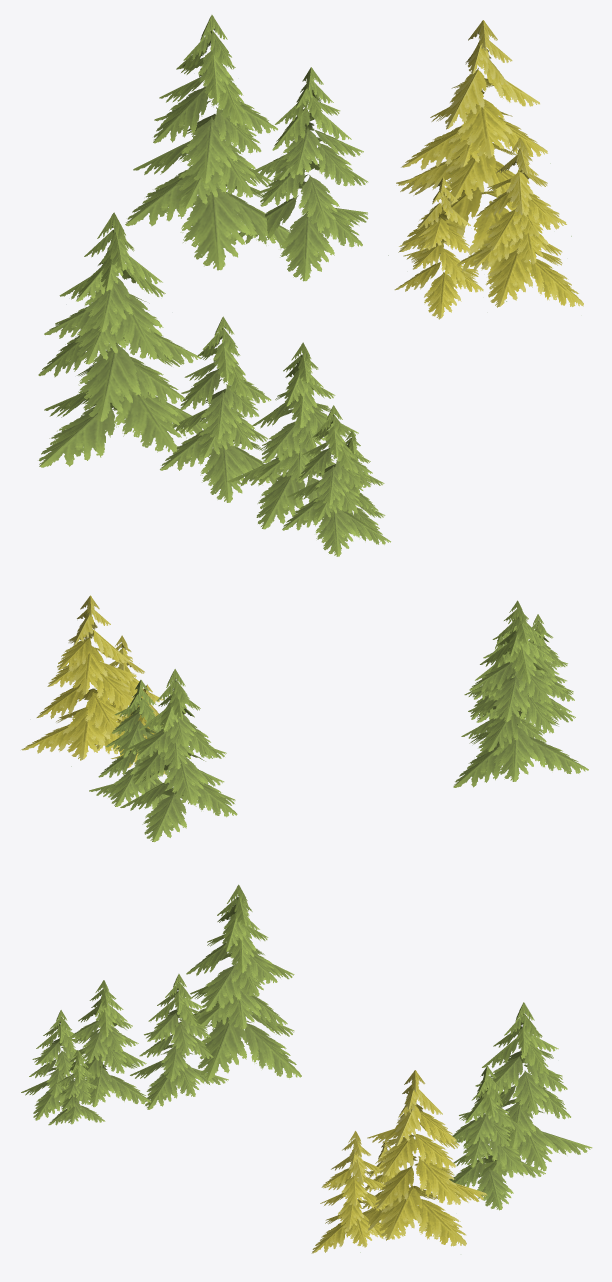
Rendered from area_13_11.FBX.
3 renders of one model, top to bottom at view 1: azimuth 30°, elevation 25°; view 2: azimuth 150°, elevation 25°; view 3: azimuth 270°, elevation 25°, orthographic. The views are drawn at different scales.
Parts seen in each view (by area): view 1: area_13_11; view 2: area_13_11; view 3: area_13_11.
Part boxes in pixels (x1,y1,x2,y2): area_13_11: (38,15,583,556); area_13_11: (21,595,588,842); area_13_11: (21,884,592,1253).
Bounding box in the file's own units: 34.14 × 13.22 × 35.55.
